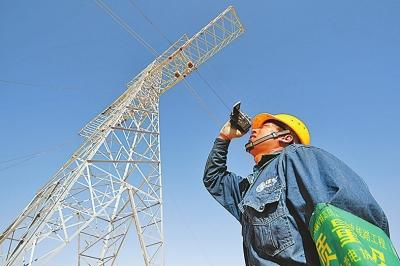gloves: (219, 101, 252, 140)
hard-hat: (251, 111, 310, 145)
person: (202, 101, 393, 266)
